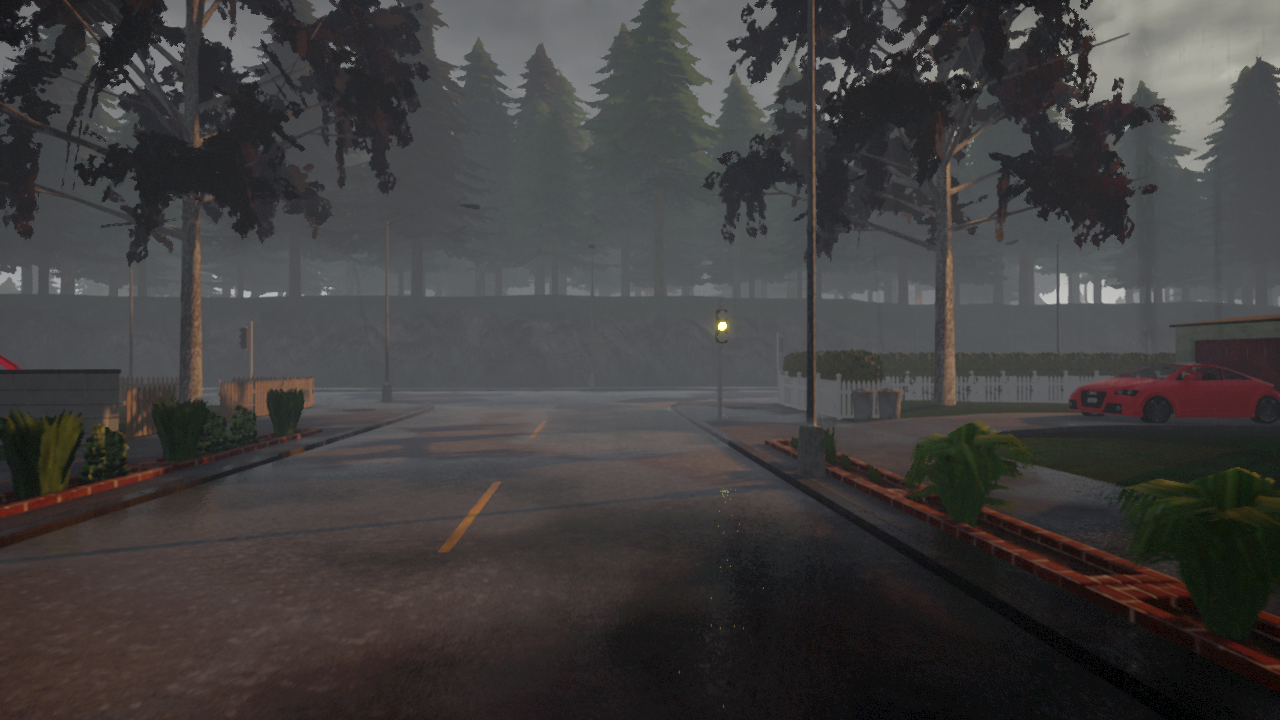yellow: (713, 308, 728, 343)
